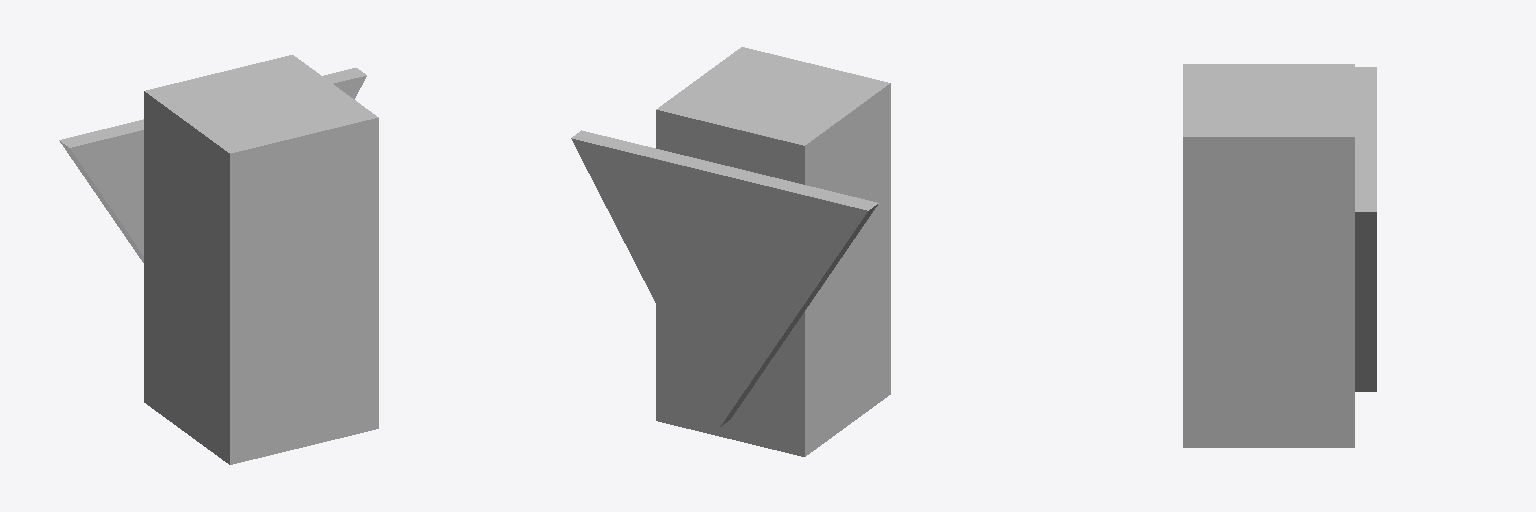
Rendered from item.obj.
3 views of the same model, side by side, from view 1: azimuth 30°, elevation 25°; view 2: azimuth 150°, elevation 25°; view 3: azimuth 270°, elevation 25° (orthographic).
Visible parts, largest first — view 1: cube, cuboid; view 2: cube, cuboid; view 3: cube, cuboid.
Boxes of the visible parts, box(x1,y1,x2,y2) form: cube: box(144, 55, 378, 464); cuboid: box(59, 68, 366, 262); cube: box(656, 47, 890, 456); cuboid: box(571, 130, 878, 426); cube: box(1183, 64, 1354, 447); cuboid: box(1355, 67, 1376, 391).
Bounding box in the file's own units: 1 × 1 × 0.5625.